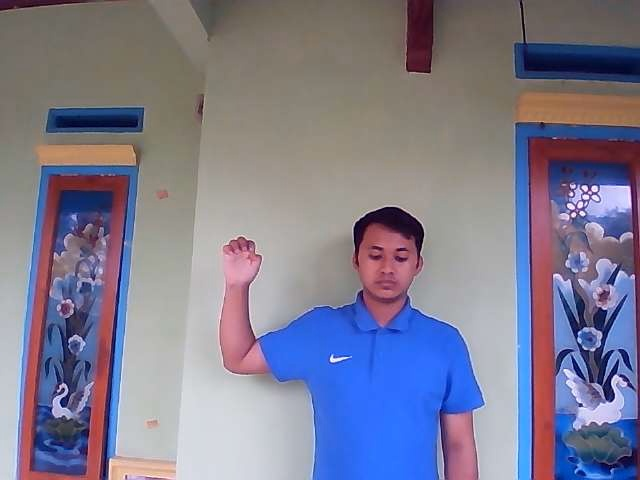E: (221, 236, 262, 287)
